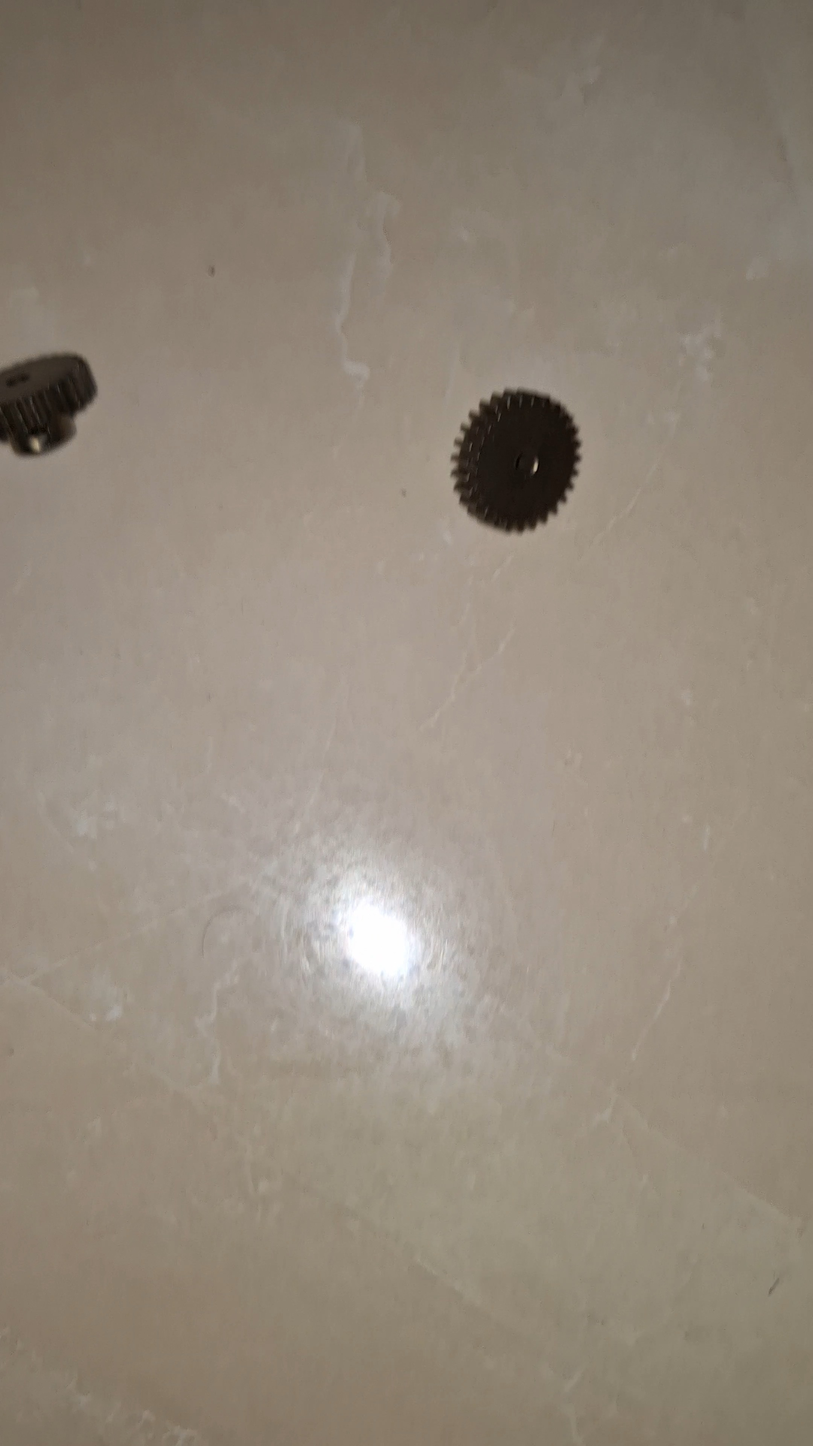spur gear: (452, 391, 580, 530), (0, 354, 96, 455)
